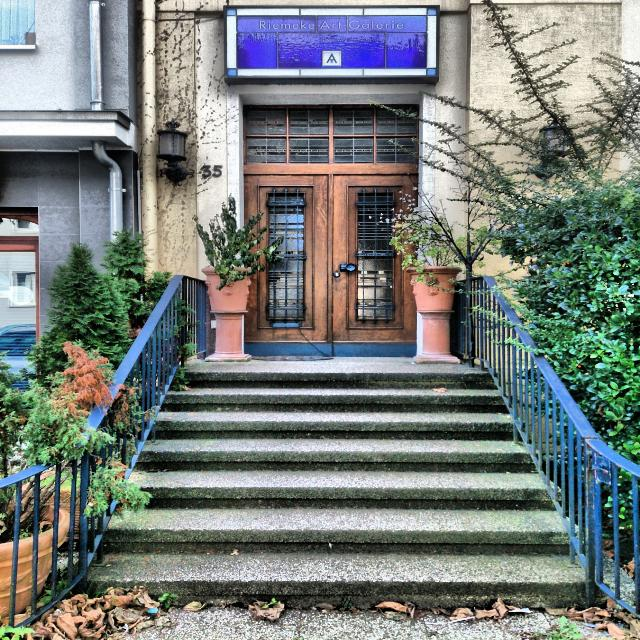escada: (82, 364, 589, 605)
